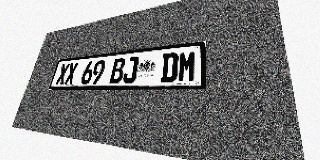6: (80, 61, 95, 84)
9: (90, 60, 106, 84)
B: (109, 57, 126, 84)
D: (160, 52, 179, 83)
J: (122, 56, 139, 83)
M: (177, 50, 197, 82)
X: (64, 62, 79, 85), (55, 63, 70, 85)
